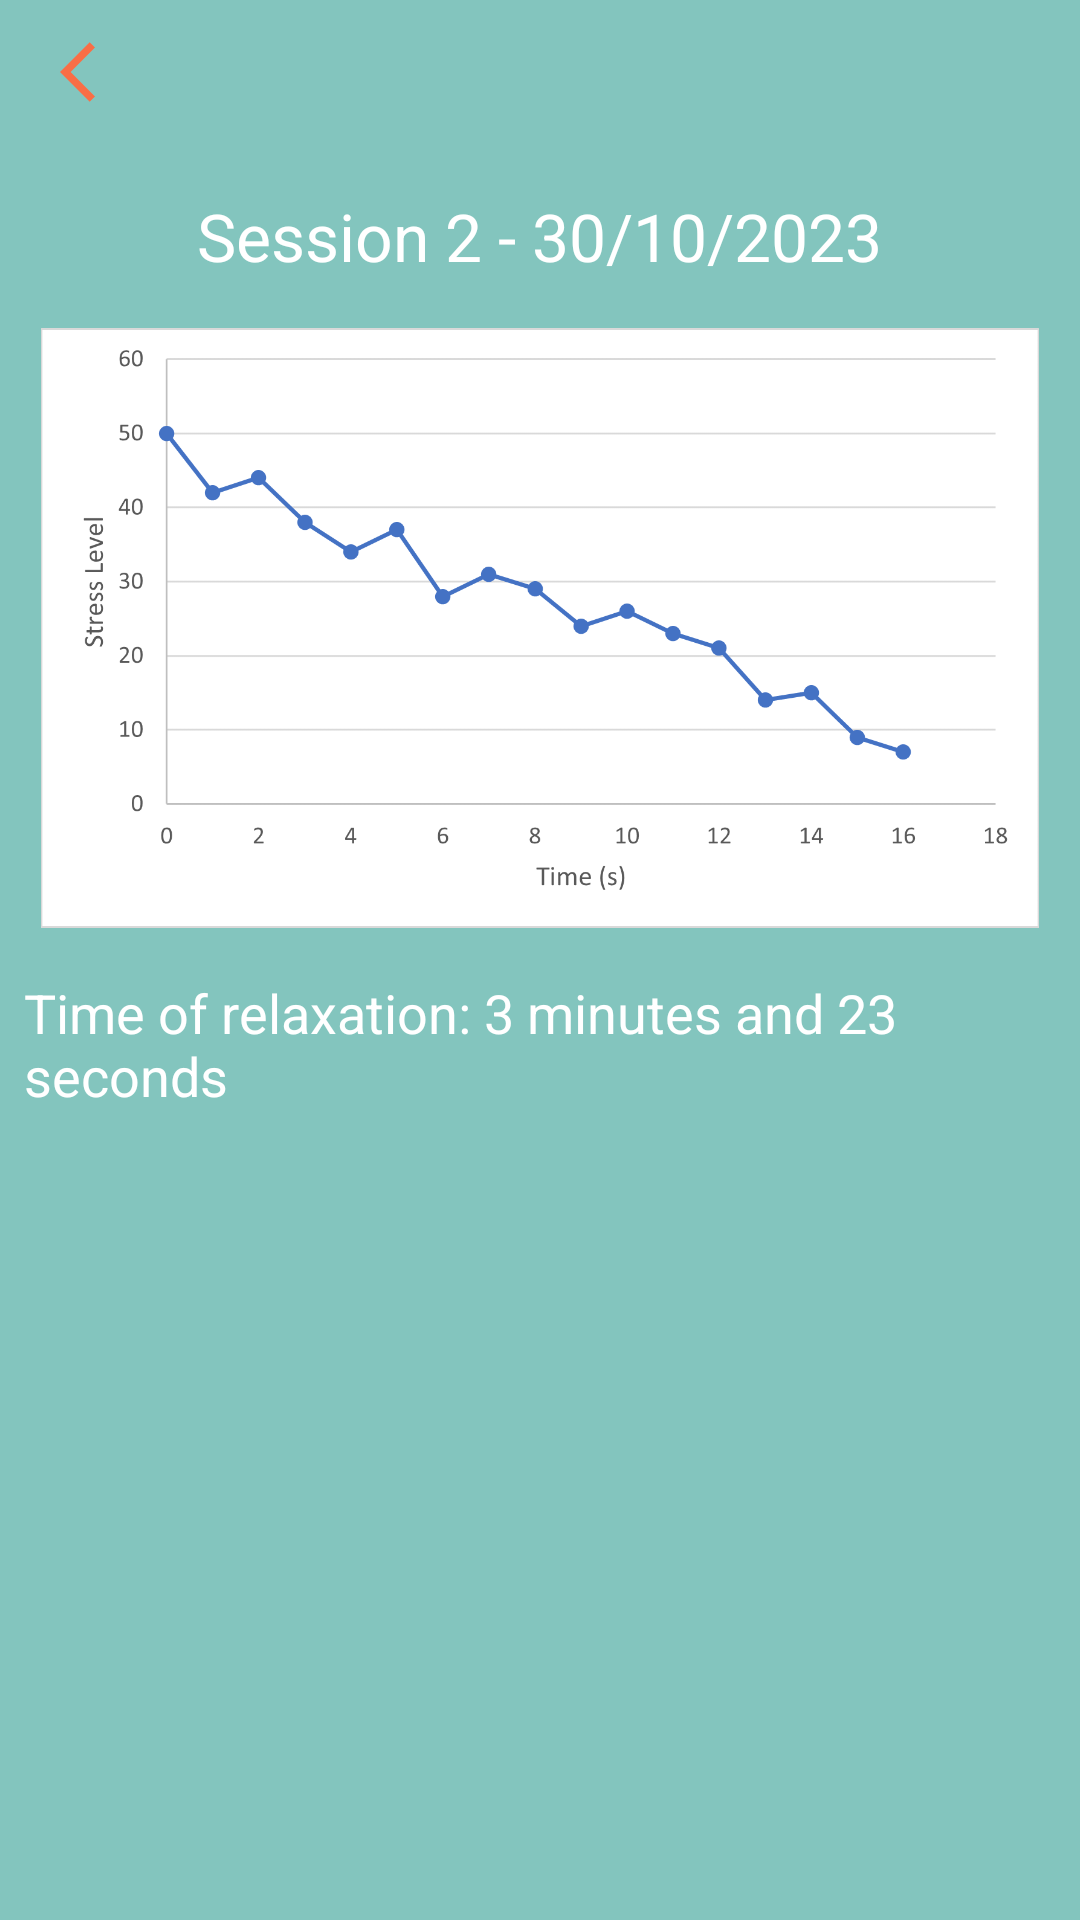

Locate icon controls on the screen. Image size 1080w x 1920h, boxes as (x1, y1, x2, y2).
Back button in the end of session layout: (60, 42, 95, 102)
